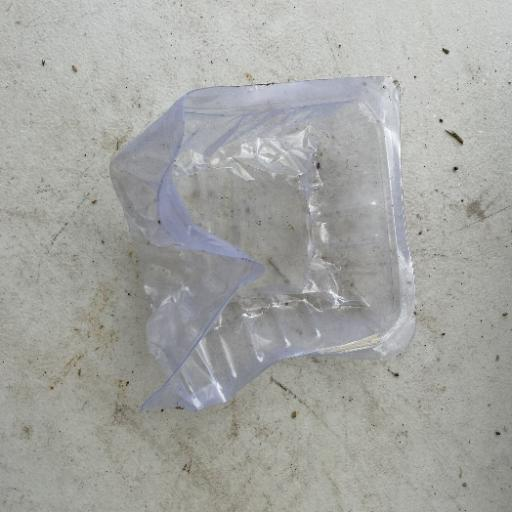Plastic: (108, 74, 418, 414)
